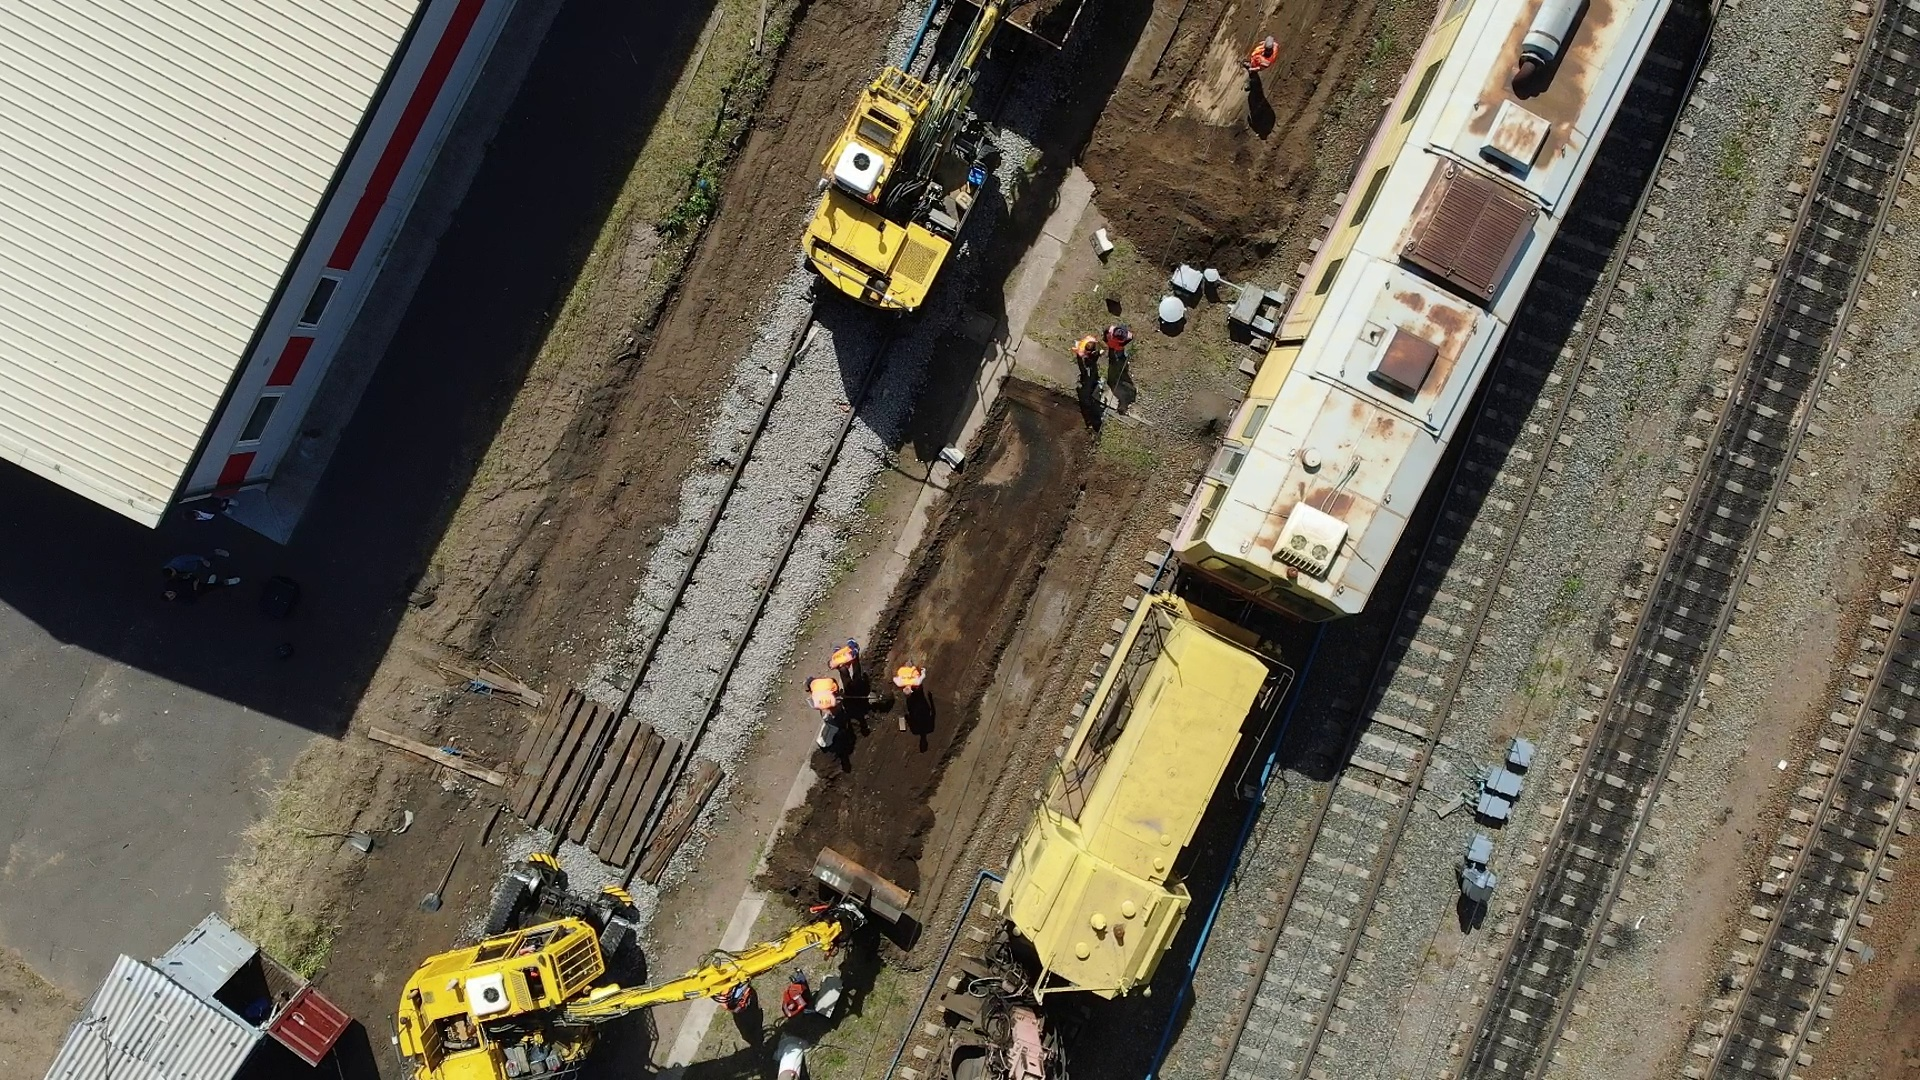kjtv: (398, 862, 670, 1080), (799, 70, 998, 322)
